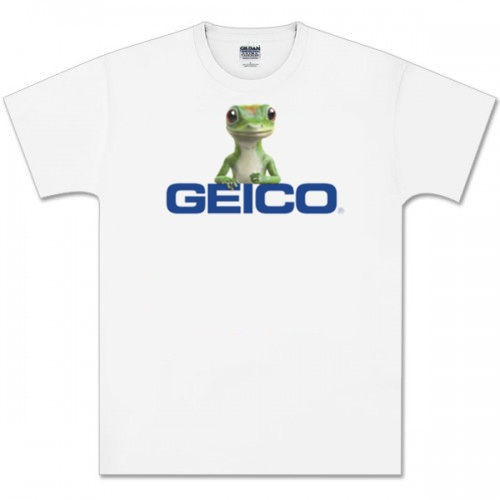Geico: (159, 175, 345, 218)
